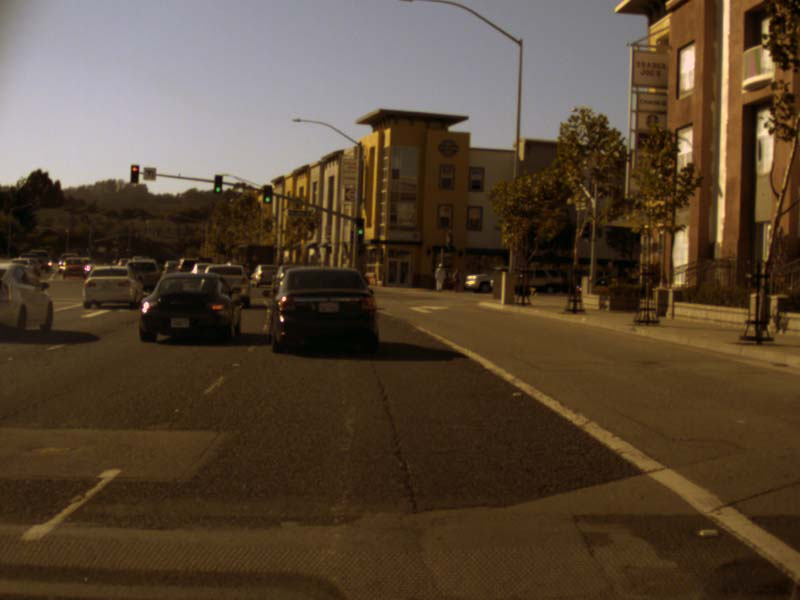Green: (262, 185, 272, 203), (355, 218, 363, 237), (215, 175, 221, 193)
Red: (130, 165, 138, 182)
